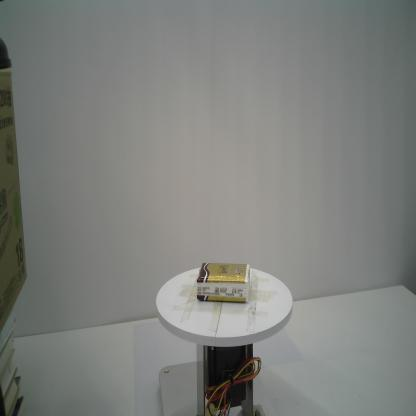Tissue: (197, 262, 250, 302)
